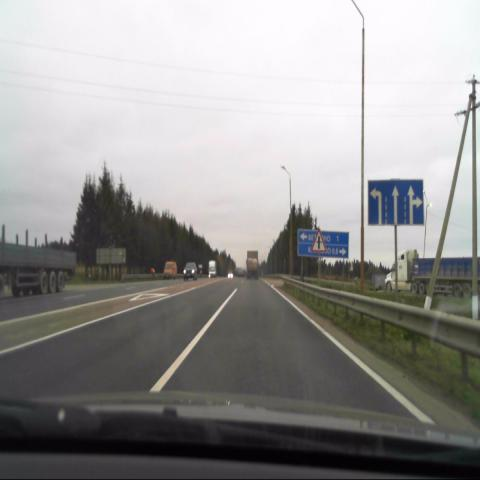2_3: (311, 231, 325, 254)
